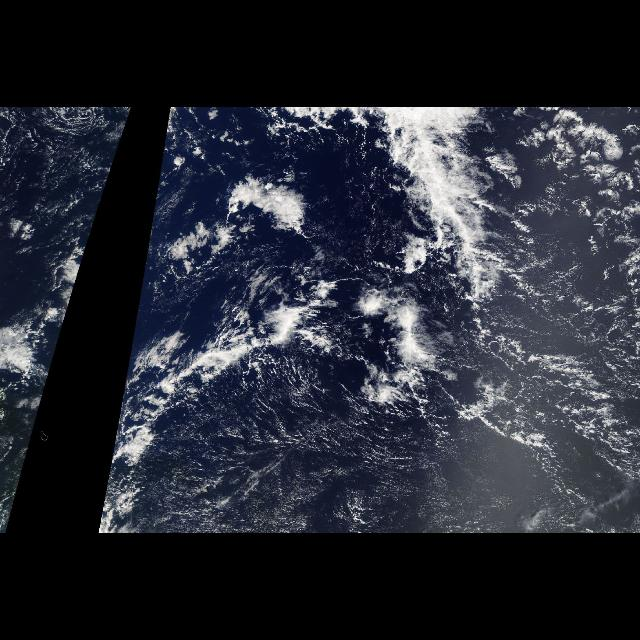Sugar: (177, 380, 441, 530)
